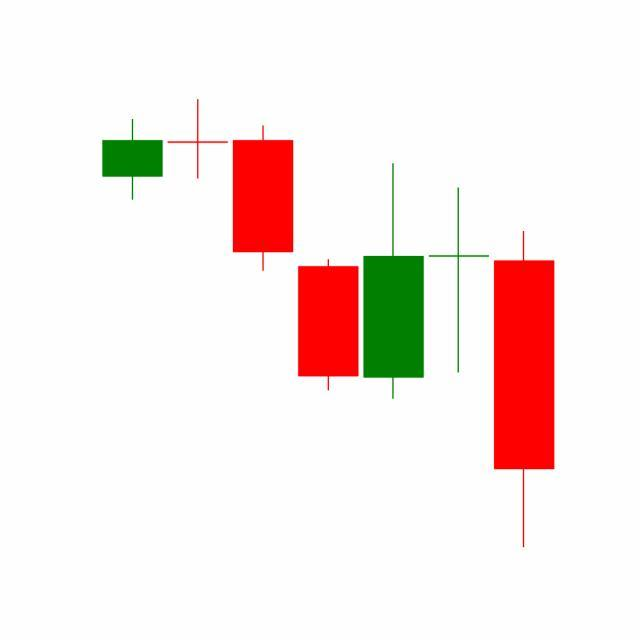Three Outside Up-Down: (295, 161, 492, 402)
